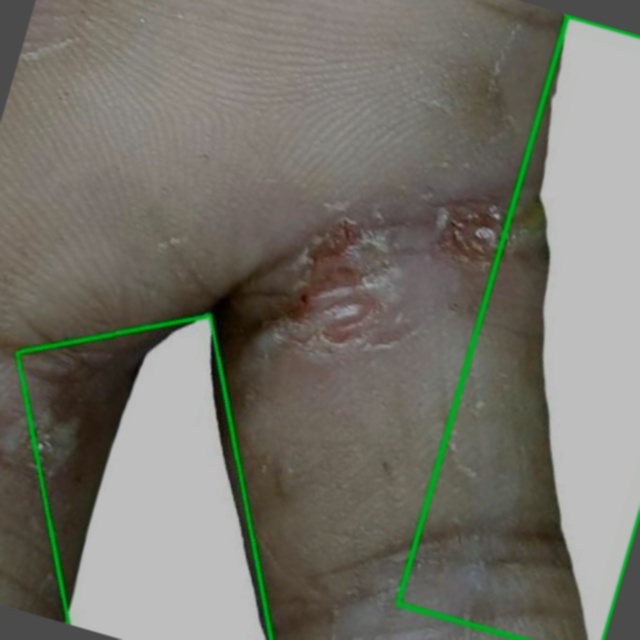Scabies: (398, 15, 639, 639), (16, 316, 270, 639)
